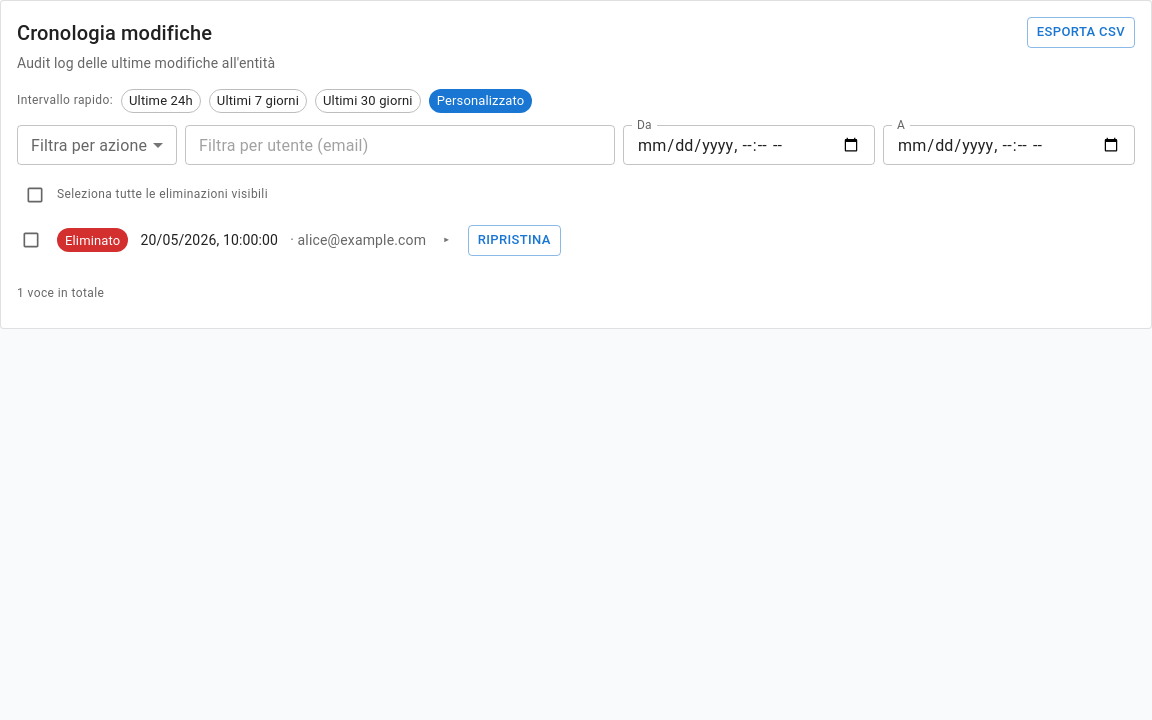
Test: AuditHistoryPanel › shows Italian not-revertable toast on 400 error after confirm
The image size is (1152, 720).
Expected: the text "Eliminato" is shown, [65,233,120,248]
Click the button with aria-label "Ripristina entit": (514,240) [468,225,561,256]
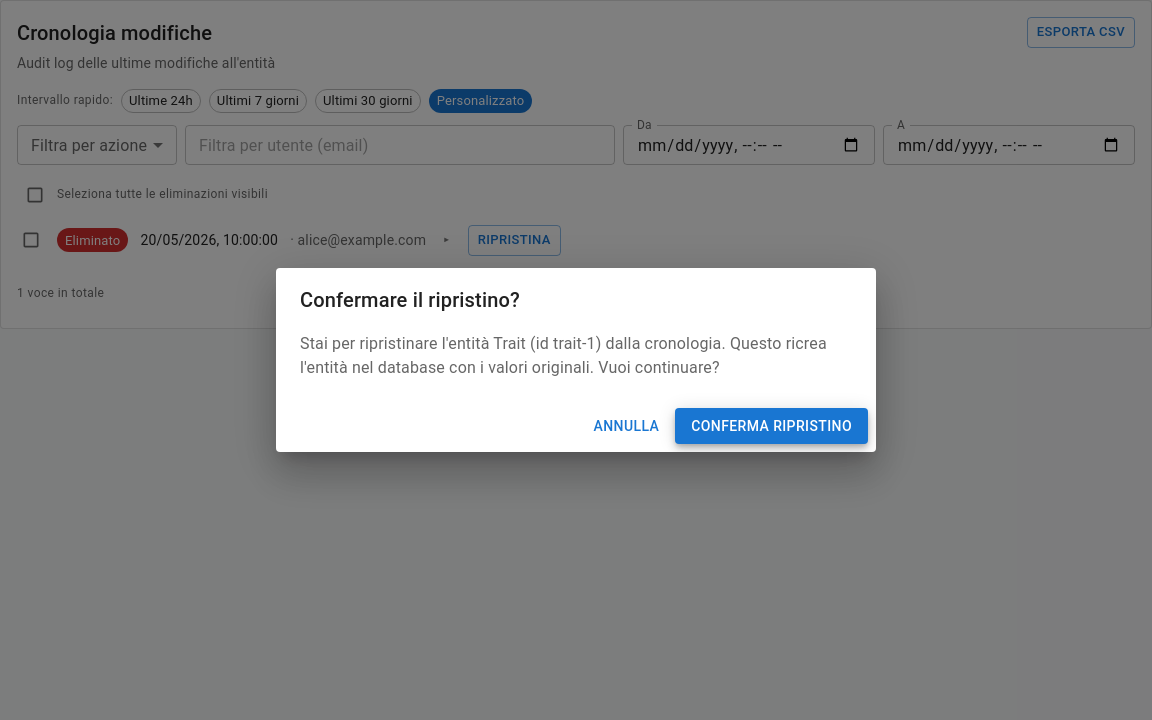
Now the heading "Confermare il ripristino?" is shown, box [300,288,520,312]
Click the button "Conferma ripristino": (772,426) [675,408,868,444]
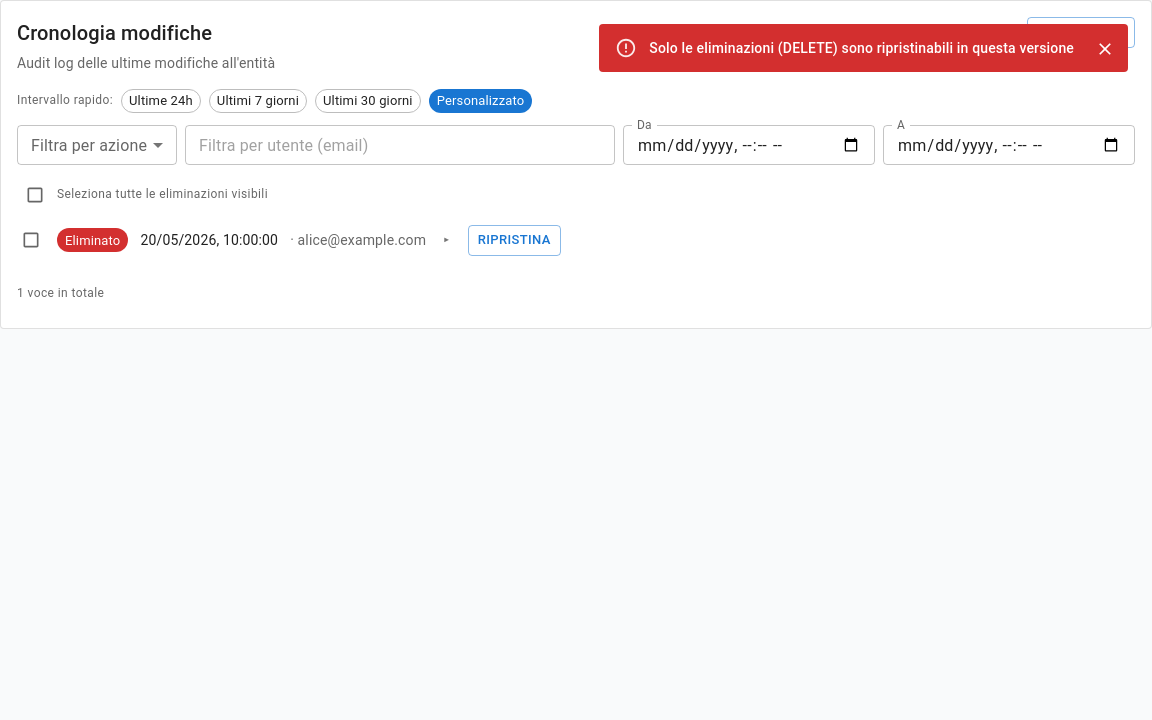
Now the text "Solo le eliminazioni (DELETE) sono ripristinabili" is shown, box [649,40,1074,56]
